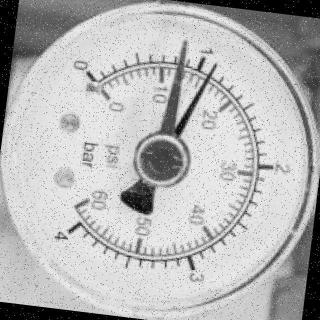gauge: (0, 0, 320, 320), (61, 54, 131, 128), (129, 128, 195, 192), (51, 214, 87, 248), (204, 58, 226, 76), (176, 35, 193, 53)
